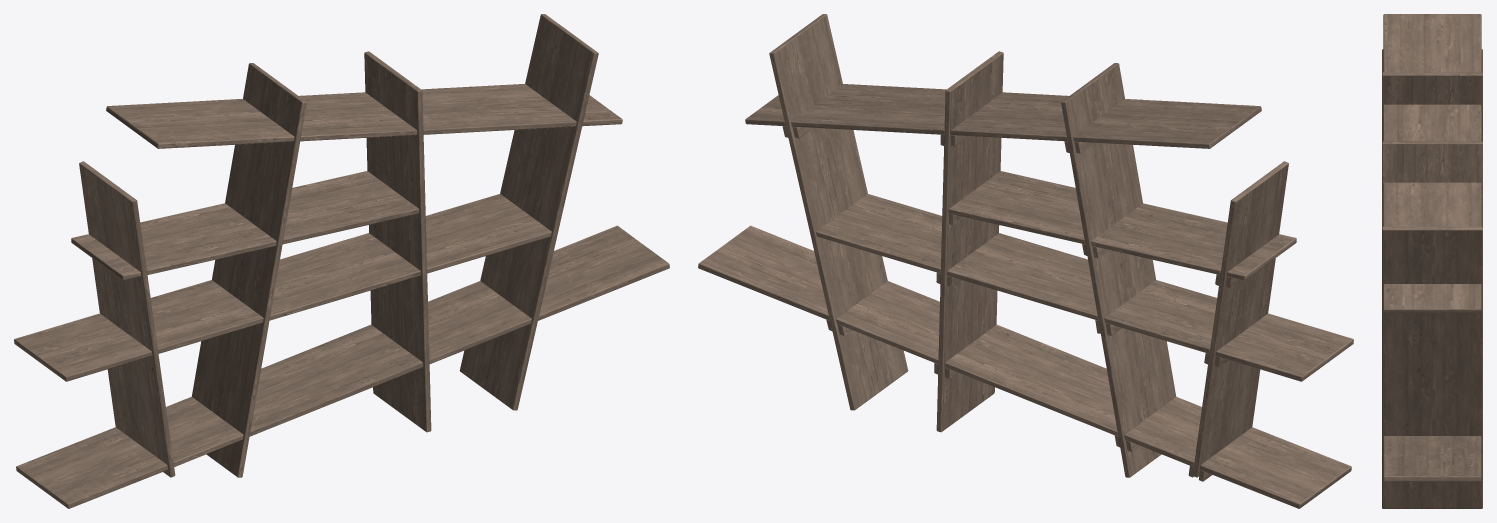
Rendered from estante-v1.glb.
3 views of the same model, side by side, from view 1: azimuth 30°, elevation 25°; view 2: azimuth 150°, elevation 25°; view 3: azimuth 270°, elevation 25° (orthographic). The views are drawn at different scales.
Visible parts, largest first — view 1: Library_7IT; view 2: Library_7IT; view 3: Library_7IT.
Part boxes in pixels (left/top/right/bottom): Library_7IT: left=14, top=14, right=669, bottom=508; Library_7IT: left=698, top=14, right=1353, bottom=508; Library_7IT: left=1382, top=14, right=1482, bottom=508.
Bounding box in the file's own units: 1.62 × 0.9247 × 0.25.
Materials: 2 (2 with a texture image).
